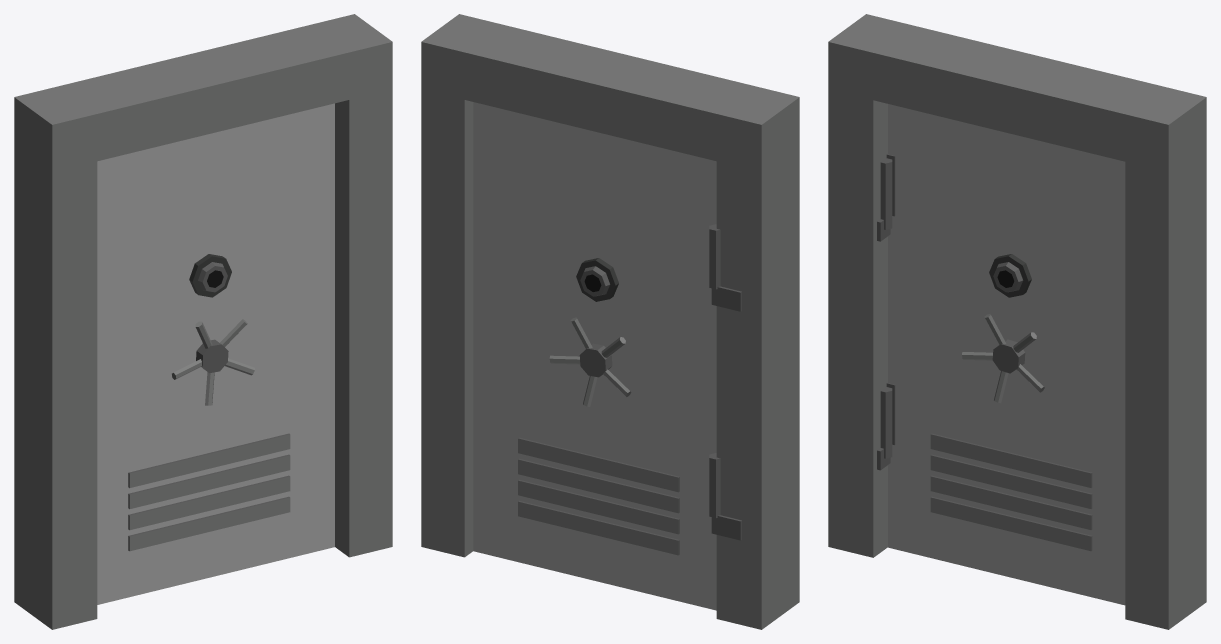
Rendered from ArmoryDoor.glb.
The picture shows the model from 3 angles, left to right: view 1: azimuth 30°, elevation 25°; view 2: azimuth 150°, elevation 25°; view 3: azimuth 330°, elevation 25°; orthographic projection.
Visible parts, largest first — view 1: DoorBoard, Cube; view 2: DoorBoard, Cube; view 3: DoorBoard, Cube.
Part boxes in pixels (x1,y1,x2,y2): DoorBoard: (97,103,334,604); Cube: (14,14,392,629); DoorBoard: (473,102,716,610); Cube: (421,14,799,629); DoorBoard: (888,104,1125,605); Cube: (828,14,1206,629).
Bounding box in the file's own units: 1.7 × 2.4 × 0.3473.
Materials: 1 (1 with a texture image).
